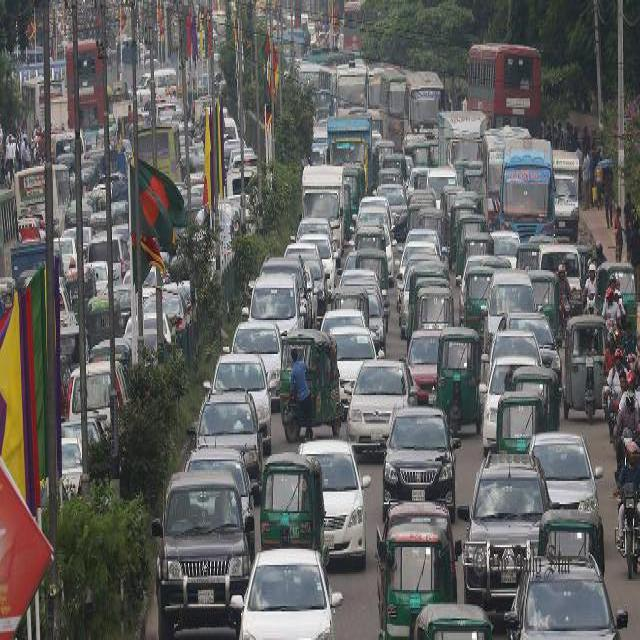bus: (464, 33, 544, 140), (498, 131, 554, 239), (11, 160, 73, 239), (63, 34, 107, 139), (404, 68, 446, 152), (316, 56, 369, 121), (19, 70, 66, 138), (132, 111, 180, 166), (378, 67, 404, 146), (338, 0, 372, 50)
car: (293, 424, 371, 574), (238, 541, 344, 635), (376, 400, 462, 514), (342, 351, 420, 466), (524, 425, 604, 524), (202, 340, 276, 439), (220, 316, 284, 402), (374, 178, 406, 242)
motorbike: (615, 438, 639, 586), (554, 263, 572, 331)
pickup: (296, 158, 346, 269), (434, 104, 486, 191), (324, 114, 376, 195), (551, 144, 581, 240)
suv: (149, 464, 255, 634), (462, 448, 550, 609), (184, 384, 268, 472)
three wheelers -CNG-: (381, 516, 455, 634), (277, 324, 343, 444), (259, 448, 331, 548), (432, 320, 483, 438), (562, 309, 610, 424), (540, 506, 606, 565), (492, 387, 548, 455), (412, 592, 492, 634), (511, 361, 562, 426), (594, 257, 638, 329), (448, 200, 489, 259), (463, 264, 495, 332), (410, 282, 456, 329), (528, 264, 558, 333), (86, 292, 122, 348), (330, 280, 368, 321), (344, 161, 364, 227), (354, 248, 388, 278), (354, 222, 386, 248), (342, 180, 352, 237)
